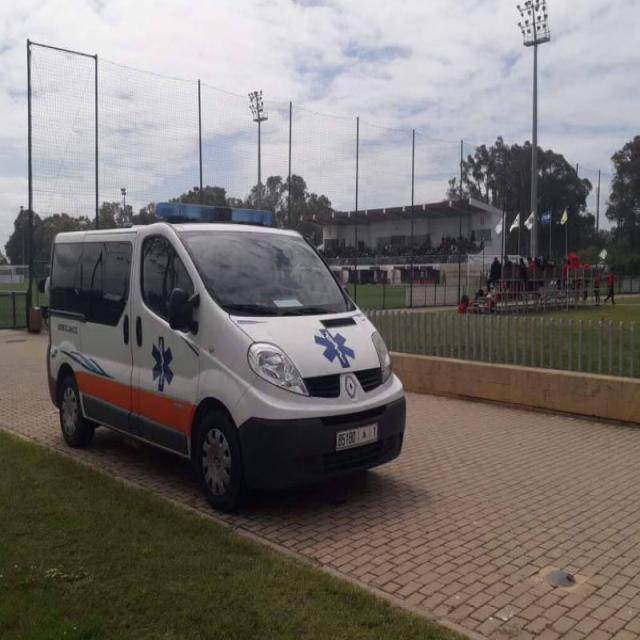ambulance: (44, 191, 400, 499)
